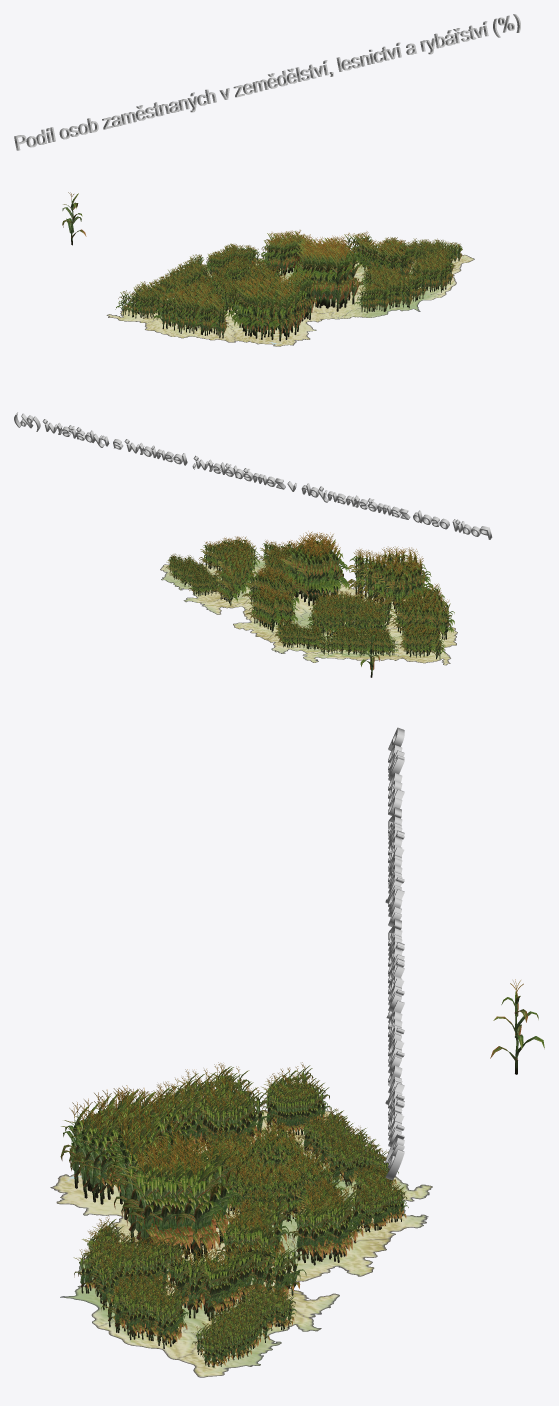
The model's file is zam_v_zem_les_ryb._testglb.glb.
The picture shows the model from 3 angles, top to bottom: view 1: azimuth 30°, elevation 25°; view 2: azimuth 150°, elevation 25°; view 3: azimuth 270°, elevation 25°; orthographic projection. The views are drawn at different scales.
Parts seen in each view (by area): view 1: Text, Relief_Map_of_Czech_Republic (1); view 2: Relief_Map_of_Czech_Republic (1), Text; view 3: Relief_Map_of_Czech_Republic (1), Text, corn.001 (×3).
Boxes of the visible parts, bbox=[...] form: Text: bbox=[14, 14, 520, 150]; Relief_Map_of_Czech_Republic (1): bbox=[106, 252, 474, 346]; Relief_Map_of_Czech_Republic (1): bbox=[160, 559, 457, 665]; Text: bbox=[14, 412, 492, 539]; Relief_Map_of_Czech_Republic (1): bbox=[50, 1095, 432, 1377]; Text: bbox=[385, 727, 404, 1180]; corn.001 (×3): bbox=[124, 979, 544, 1260].
Size of the model in its own units: 31729 by 10882 by 16730.
22 materials, 21 textured.
